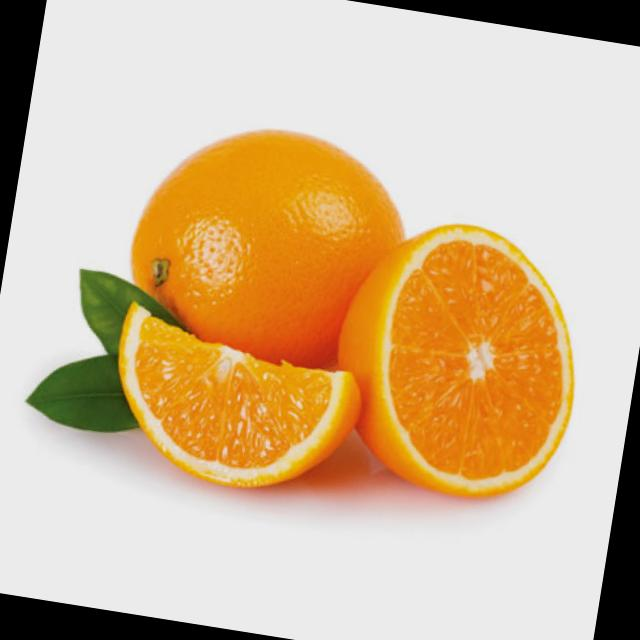orange: (94, 90, 436, 424)
